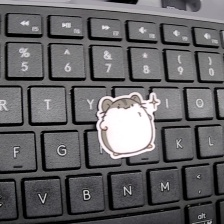mouse: (94, 92, 165, 159)
